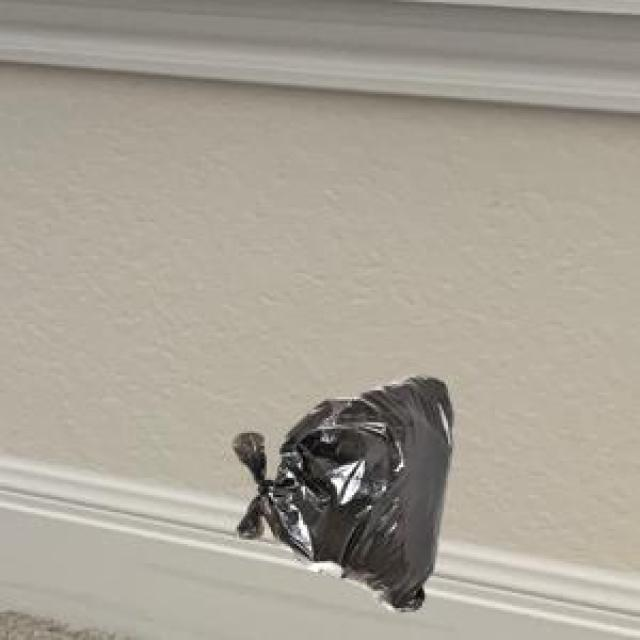waste: (269, 376, 454, 608)
